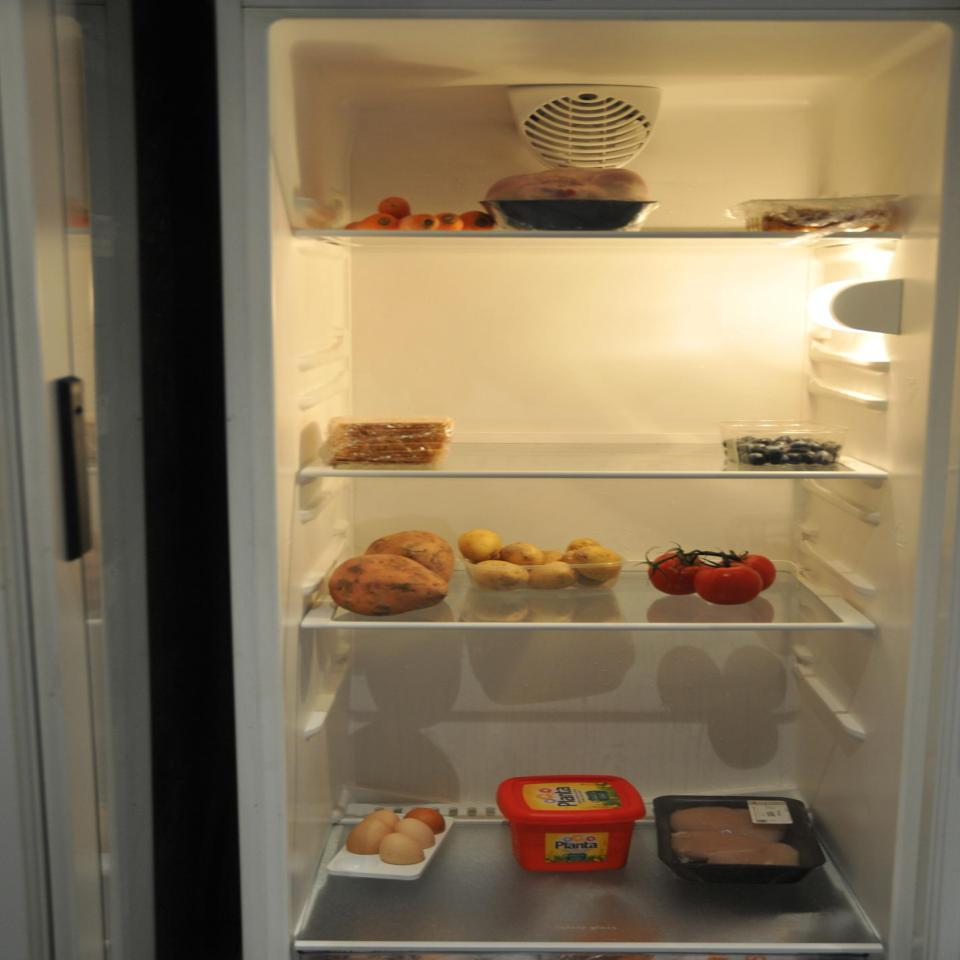Carne pollo: (653, 797, 818, 896), (487, 161, 657, 236)
Huevos: (345, 798, 448, 868)
Mantequilla: (497, 773, 647, 874)
Tomate: (640, 541, 778, 608)
Zanahoria: (343, 192, 496, 235)
blueberries: (720, 431, 846, 468)
